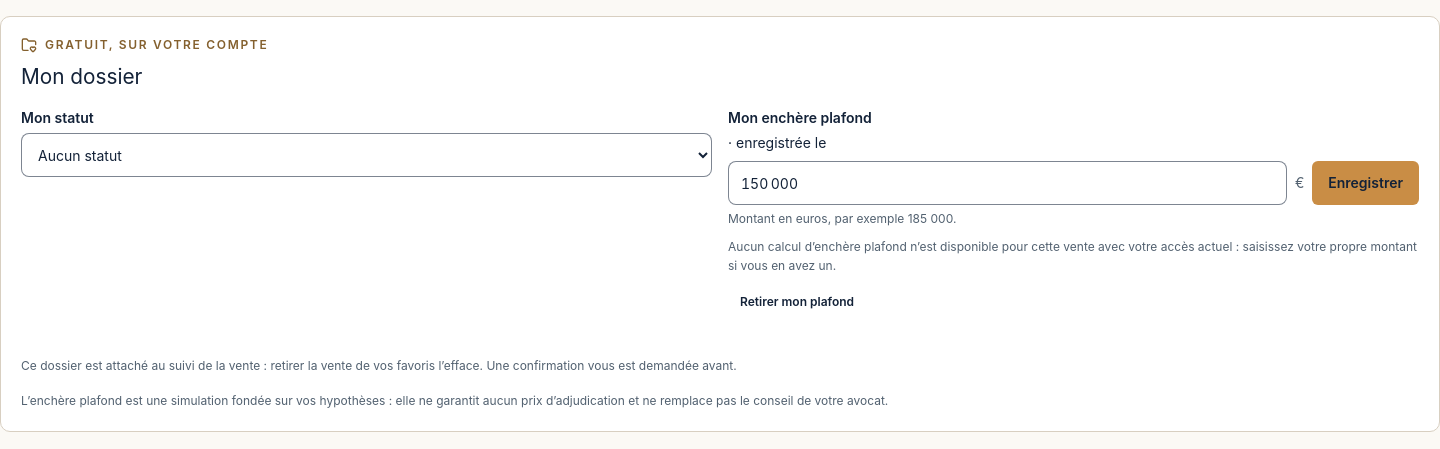
it: SaleFileCard (Mon dossier) › retire le plafond enregistré
The width and height of the screenshot is (1440, 449).
What coordinates should you click on to do the following:
click the button "Retirer mon plafond"
I would click on:
 (797, 302)
Its box is [728,284,866,320].
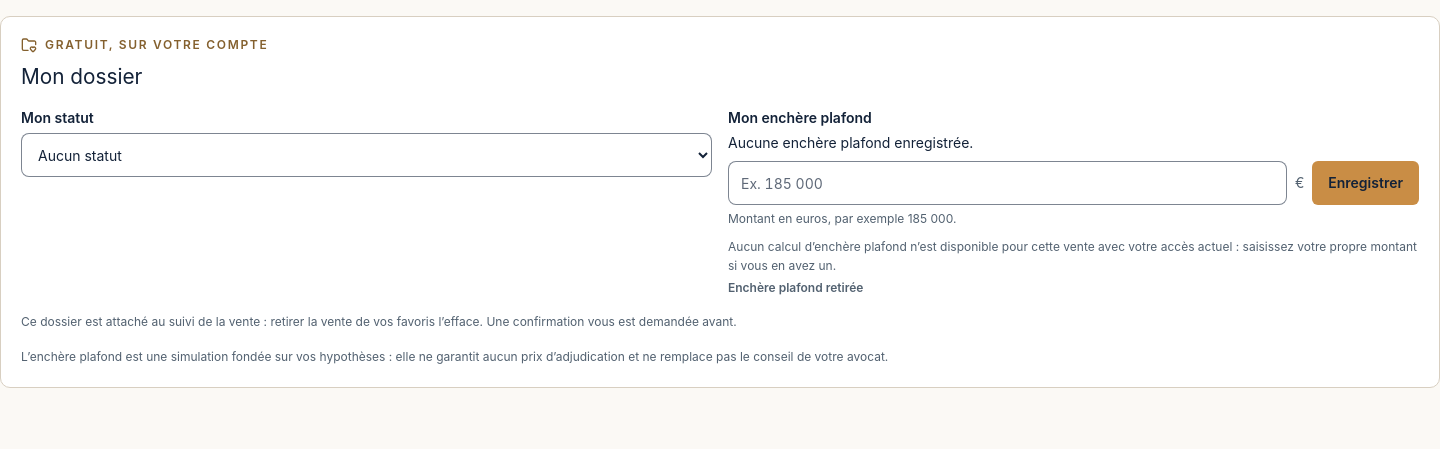
Check: the text "Aucune enchère plafond enregistrée." is shown, box [728,134,973,151]
